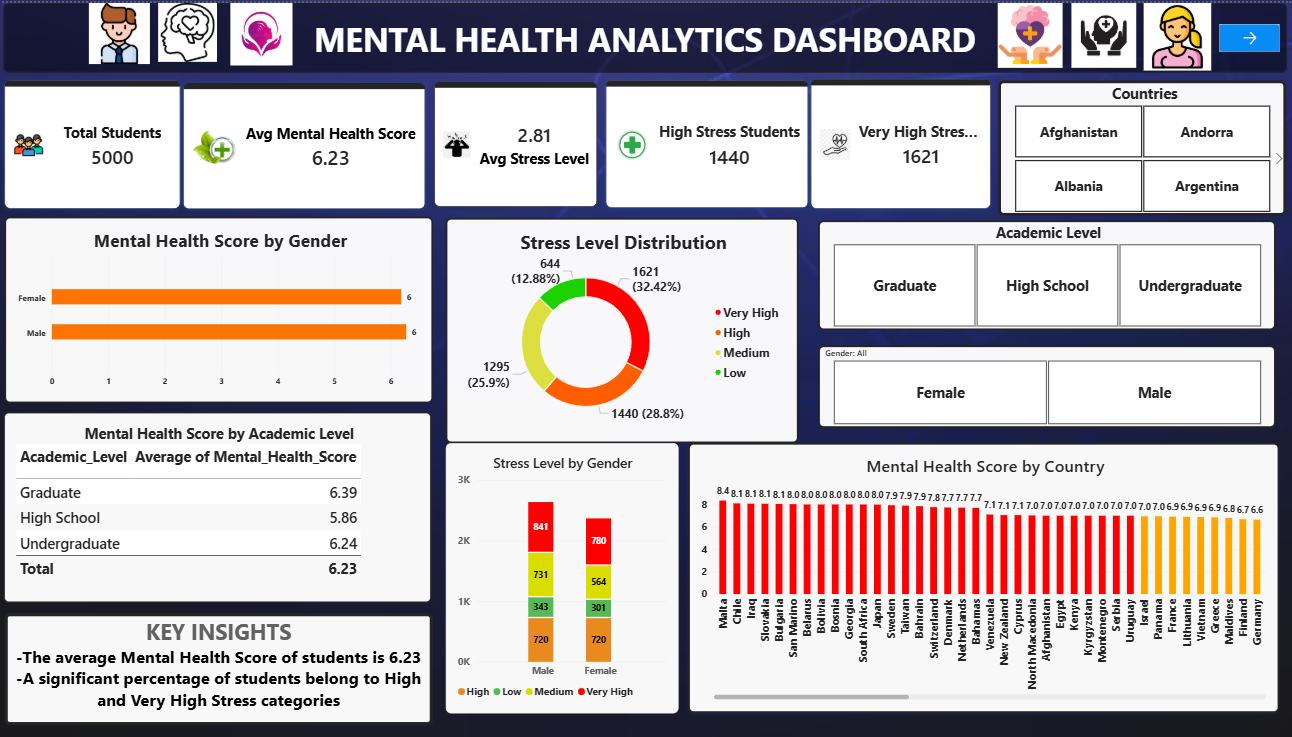

Layout of this report page (visuals, bound fields, positions):
{"tool":"powerbi","page":{"name":"Mental Health Analysis","canvas":[1920,1080],"ordinal":2},"visuals":[{"type":"textbox","box":[9.2,0,1883.8,102.7],"z":0},{"type":"cardVisual","fields":{"Data":["Student Social Media And Mental Health Impact.Avg Mental Health Score"]},"box":[262.3,106.4,377.9,207.3],"z":1000},{"type":"cardVisual","fields":{"Data":["Student Social Media And Mental Health Impact.Avg Stress Level"]},"box":[640.2,113.7,242.1,187.1],"z":2000},{"type":"cardVisual","fields":{"Data":["Student Social Media And Mental Health Impact.Total Students"]},"box":[0,102.7,280.6,210.9],"z":3000},{"type":"cardVisual","fields":{"Data":["Student Social Media And Mental Health Impact.High Stress Students"]},"box":[882.3,102.7,319.2,209.1],"z":4000},{"type":"cardVisual","fields":{"Data":["Student Social Media And Mental Health Impact.Very High Stress Students"]},"box":[1183.1,100.9,286.1,212.8],"z":5000},{"type":"clusteredBarChart","title":"Mental Health Score by Gender","fields":{"Category":["Student Social Media And Mental Health Impact.Gender"],"Y":["Avg(Student Social Media And Mental Health Impact.Mental_Health_Score)"]},"box":[11,313.7,629.1,273.3],"z":6000},{"type":"clusteredColumnChart","title":"Mental Health Score by Country","fields":{"Category":["Student Social Media And Mental Health Impact.Country"],"Y":["Student Social Media And Mental Health Impact.Avg Mental Health Score"]},"box":[1014.3,645.7,867.6,396.2],"z":7000},{"type":"slicer","fields":{"Values":["Student Social Media And Mental Health Impact.Gender"]},"box":[1206,502.5,670.8,120.6],"z":8000},{"type":"donutChart","title":"Stress Level Distribution","fields":{"Category":["Student Social Media And Mental Health Impact.Stress_Level"],"Y":["Student Social Media And Mental Health Impact.Total Students"]},"box":[658.5,315.5,517.3,330.2],"z":9000},{"type":"tableEx","title":"Mental Health Score by Academic Level","fields":{"Values":["Student Social Media And Mental Health Impact.Academic_Level","Avg(Student Social Media And Mental Health Impact.Mental_Health_Score)"]},"box":[9.2,599.8,629.1,280.6],"z":10000},{"type":"columnChart","title":"Stress Level by Gender","fields":{"Category":["Student Social Media And Mental Health Impact.Gender"],"Y":["Student Social Media And Mental Health Impact.Total Students"],"Series":["Student Social Media And Mental Health Impact.Stress_Level"]},"box":[658.3,645.7,341.7,397],"z":11000},{"type":"slicer","title":"Academic Level","fields":{"Values":["Student Social Media And Mental Health Impact.Academic_Level"]},"box":[1206,319.1,670.8,160.8],"z":12000},{"type":"slicer","title":"Countries","fields":{"Values":["Student Social Media And Mental Health Impact.Country"]},"box":[1469.8,113.1,422.1,198.5],"z":13000},{"type":"image","box":[216.4,0,126.6,86.2],"z":14000},{"type":"image","box":[1406.9,0,218.3,95.4],"z":15000},{"type":"image","box":[300.8,0,174.3,91.7],"z":16000},{"type":"image","box":[1507.8,0,232.9,95.4],"z":17000},{"type":"image","box":[97.2,0,165.1,89.9],"z":18000},{"type":"image","box":[1680.2,0,104.6,99],"z":19000},{"type":"actionButton","box":[1793.9,31.2,88,40.4],"z":20000},{"type":"textbox","box":[11,895.1,629.1,165.1],"z":20001}]}

Visuals, with their boxes in screenshot pixels (x1, y1, x2, y2), scaled from the page's 1920x1080 canvas onto the 1292x737 screenshot:
textbox: <bbox>6, 0, 1274, 70</bbox>
cardVisual - Student Social Media And Mental Health Impact.Avg Mental Health Score: <bbox>177, 73, 431, 214</bbox>
cardVisual - Student Social Media And Mental Health Impact.Avg Stress Level: <bbox>431, 78, 594, 205</bbox>
cardVisual - Student Social Media And Mental Health Impact.Total Students: <bbox>0, 70, 189, 214</bbox>
cardVisual - Student Social Media And Mental Health Impact.High Stress Students: <bbox>594, 70, 809, 213</bbox>
cardVisual - Student Social Media And Mental Health Impact.Very High Stress Students: <bbox>796, 69, 989, 214</bbox>
"Mental Health Score by Gender" clusteredBarChart: <bbox>7, 214, 431, 401</bbox>
"Mental Health Score by Country" clusteredColumnChart: <bbox>683, 441, 1266, 711</bbox>
slicer - Student Social Media And Mental Health Impact.Gender: <bbox>812, 343, 1263, 425</bbox>
"Stress Level Distribution" donutChart: <bbox>443, 215, 791, 441</bbox>
"Mental Health Score by Academic Level" tableEx: <bbox>6, 409, 430, 601</bbox>
"Stress Level by Gender" columnChart: <bbox>443, 441, 673, 712</bbox>
"Academic Level" slicer: <bbox>812, 218, 1263, 327</bbox>
"Countries" slicer: <bbox>989, 77, 1273, 213</bbox>
image: <bbox>146, 0, 231, 59</bbox>
image: <bbox>947, 0, 1094, 65</bbox>
image: <bbox>202, 0, 320, 63</bbox>
image: <bbox>1015, 0, 1171, 65</bbox>
image: <bbox>65, 0, 177, 61</bbox>
image: <bbox>1131, 0, 1201, 68</bbox>
actionButton: <bbox>1207, 21, 1266, 49</bbox>
textbox: <bbox>7, 611, 431, 723</bbox>
